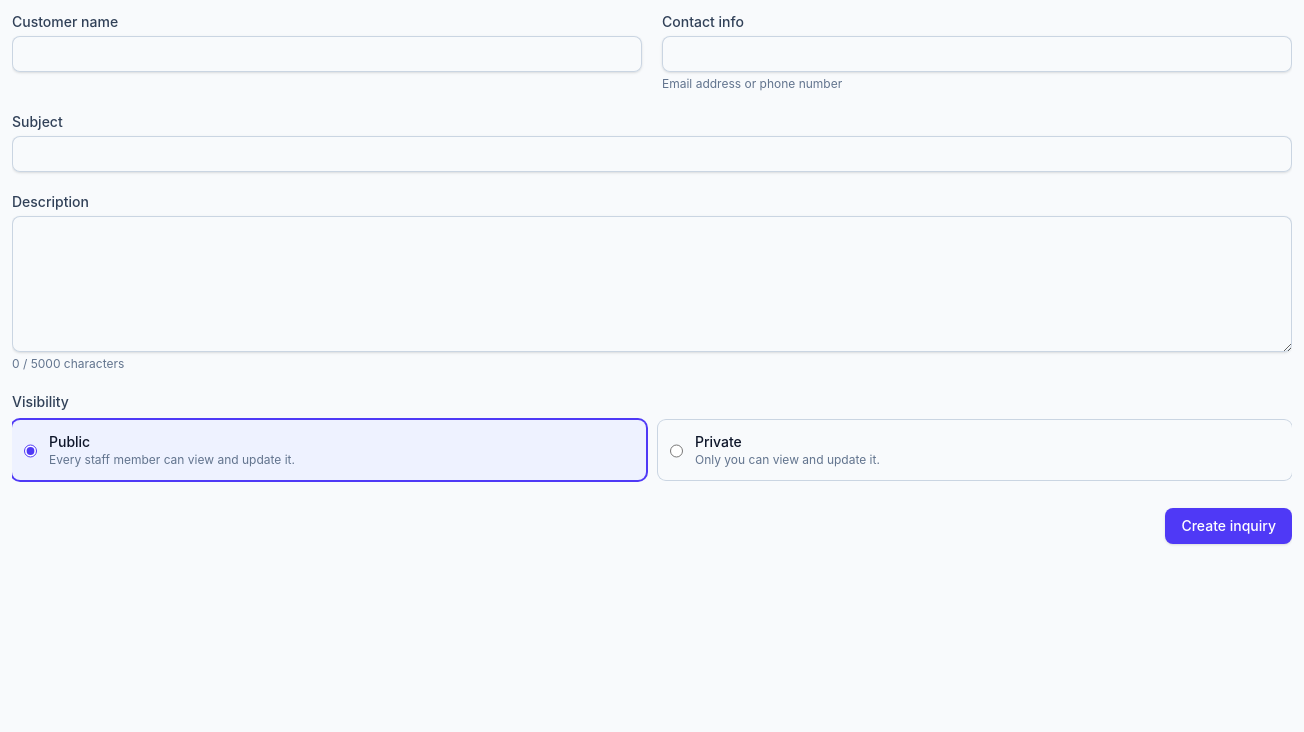
Test: InquiryForm (create inquiry) — Situation 1: invalid customer input › shows an error for every missing field and does NOT submit
Click the button "Create inquiry" at (1229, 526), box [1165,508,1292,544]
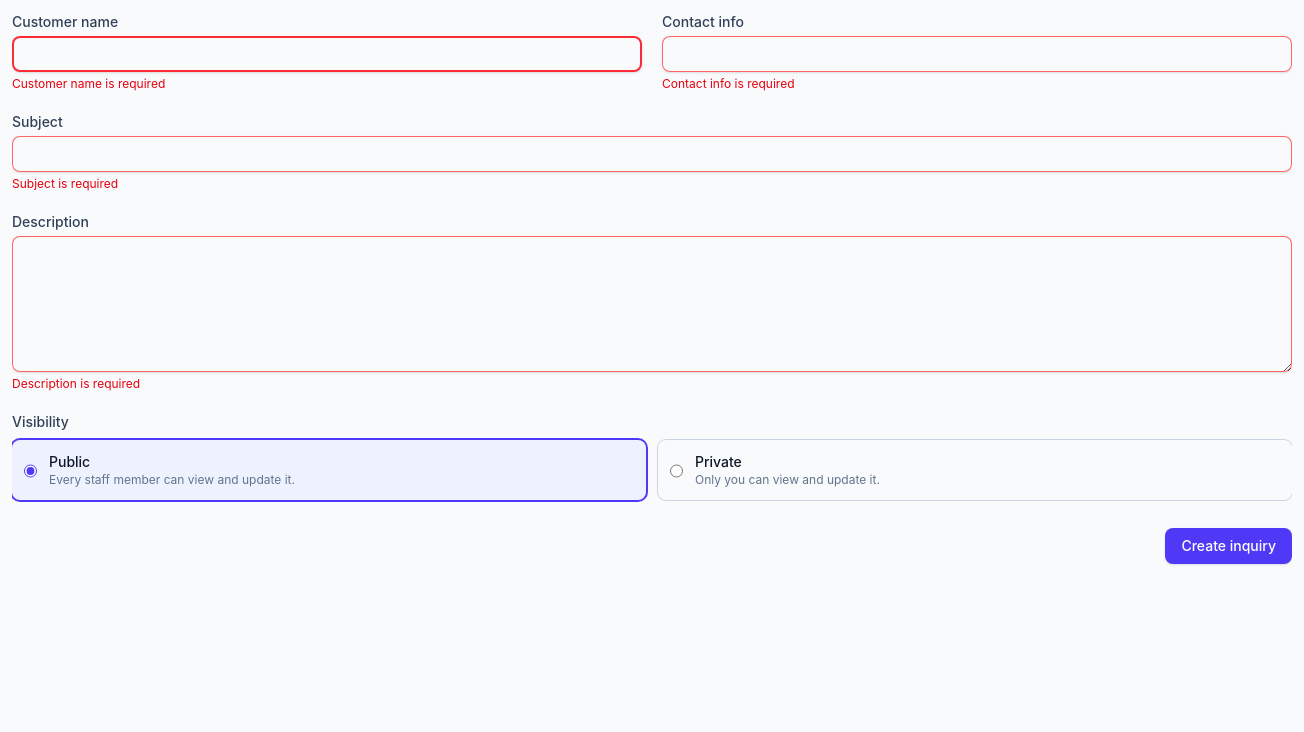
Check: the text "Customer name is required" is shown, box [12,76,165,91]
Check: the text "Contact info is required" is shown, box [662,76,794,91]
Check: the text "Subject is required" is shown, box [12,176,118,191]
